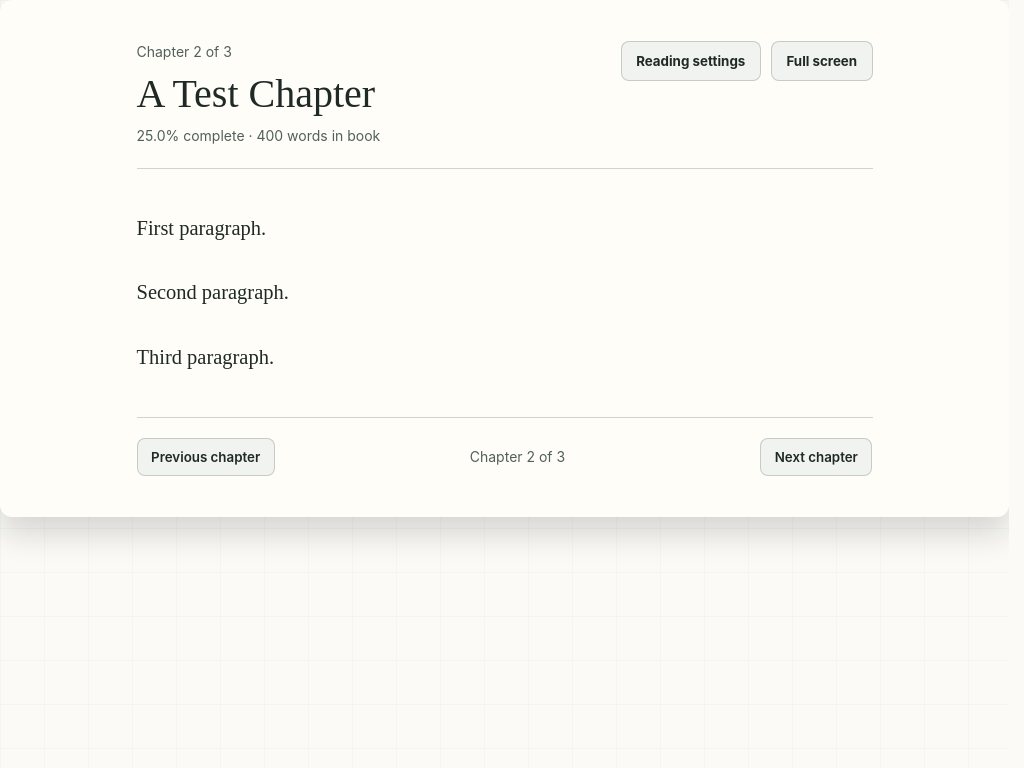
ImmersiveReader fullscreen › keeps every fullscreen reading setting available when the panel is open
The image size is (1024, 768).
Step 1. Click the button "Full screen" → (822, 61), box [771,41,872,81]
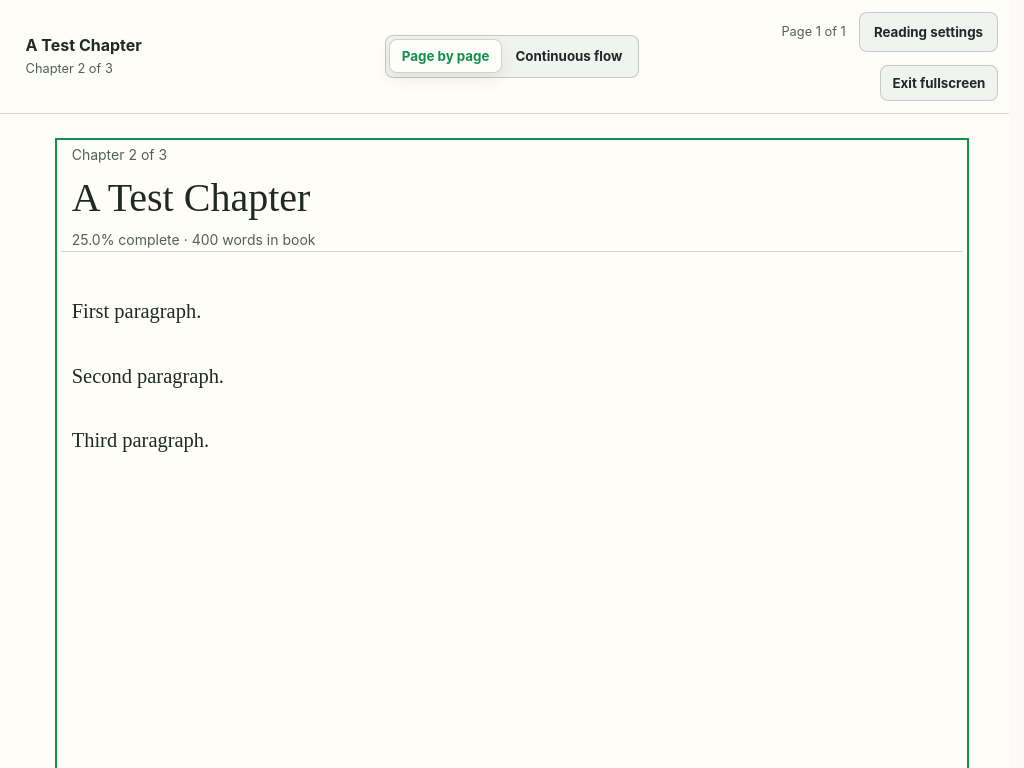
Step 2. Click the button "Reading settings" → (928, 32), box [858,12,998,52]
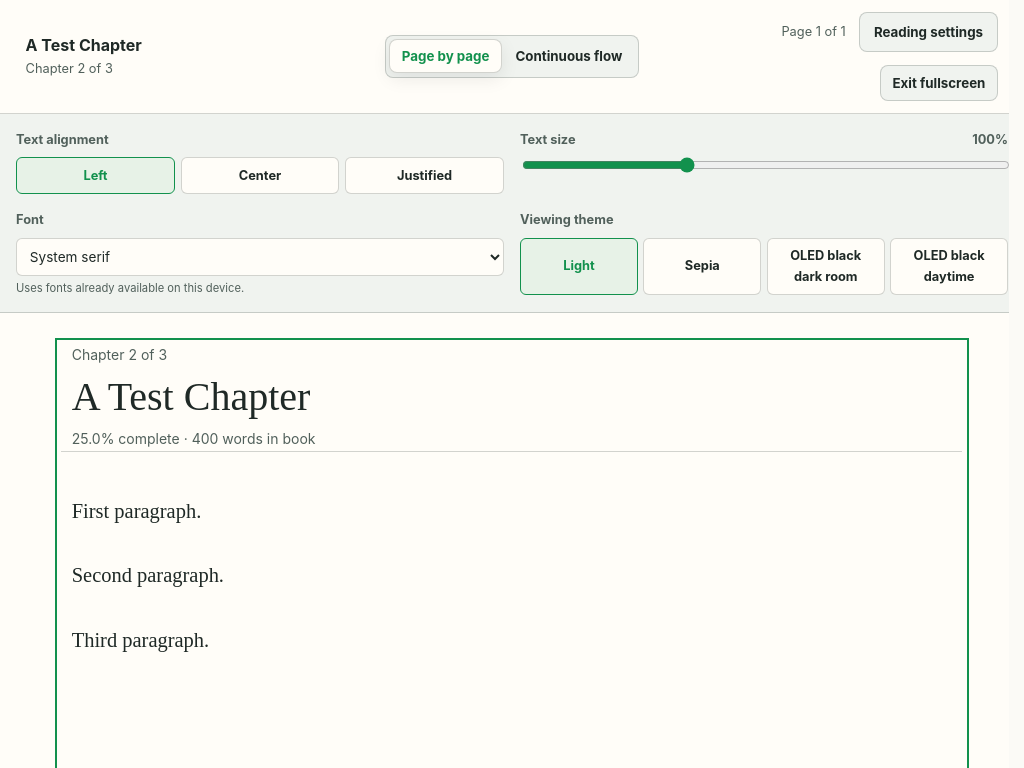
Result: the element with class "reading-settings" is shown at [0,114,1023,313]
Result: the text "Text alignment" is shown at [16,132,109,147]
Result: the text "Text size" is shown at [520,130,576,150]
